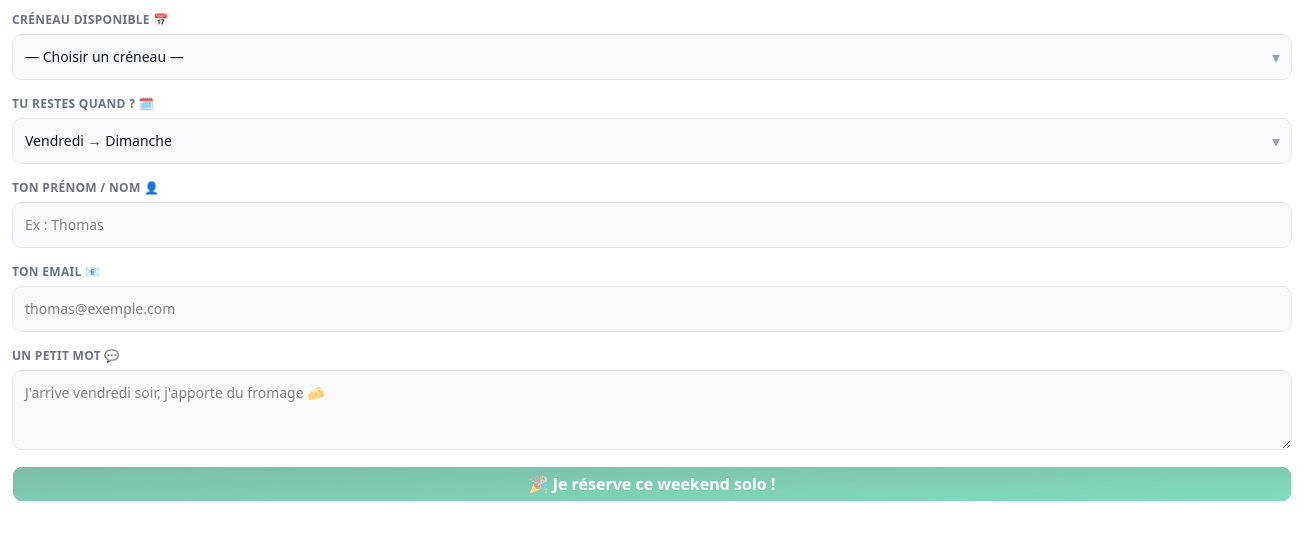
Test case: SoloForm › keeps the submit button disabled until a slot is picked
Expected: the button "🎉 Je réserve ce weekend solo !" is disabled, [12, 466, 1292, 502]
Select "Ven 25 → Mar 29 avr" in the dropdown labelled "Créneau disponible 📅" at (652, 57), box [12, 34, 1292, 80]
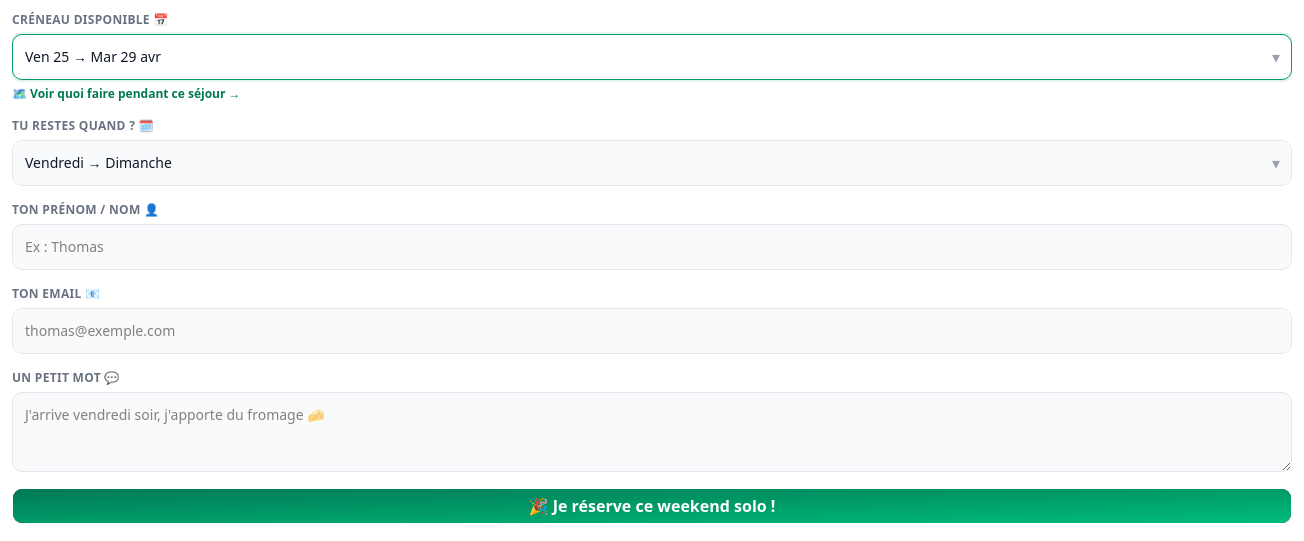
Now the button "🎉 Je réserve ce weekend solo !" is enabled, box [12, 488, 1292, 524]
